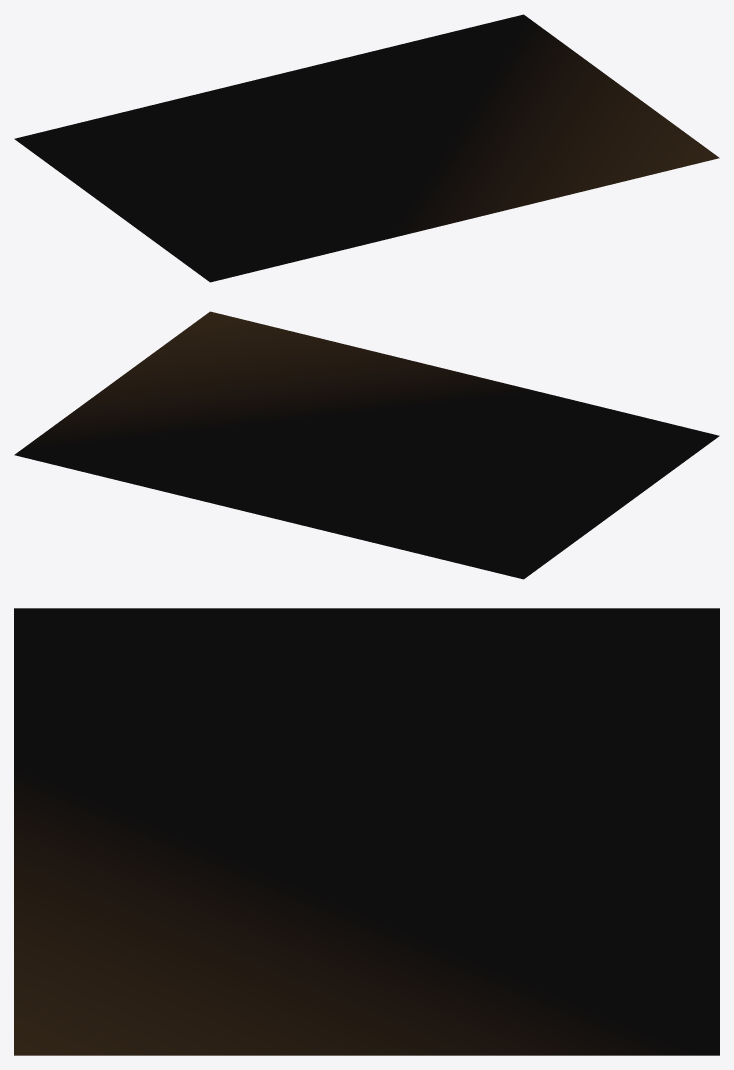
The picture shows the model from 3 angles, top to bottom: view 1: azimuth 30°, elevation 25°; view 2: azimuth 150°, elevation 25°; view 3: azimuth 270°, elevation 25°; orthographic projection. The views are drawn at different scales.
Size of the model in its own units: 0.75 by 0 by 0.5.
1 material, 1 textured.
